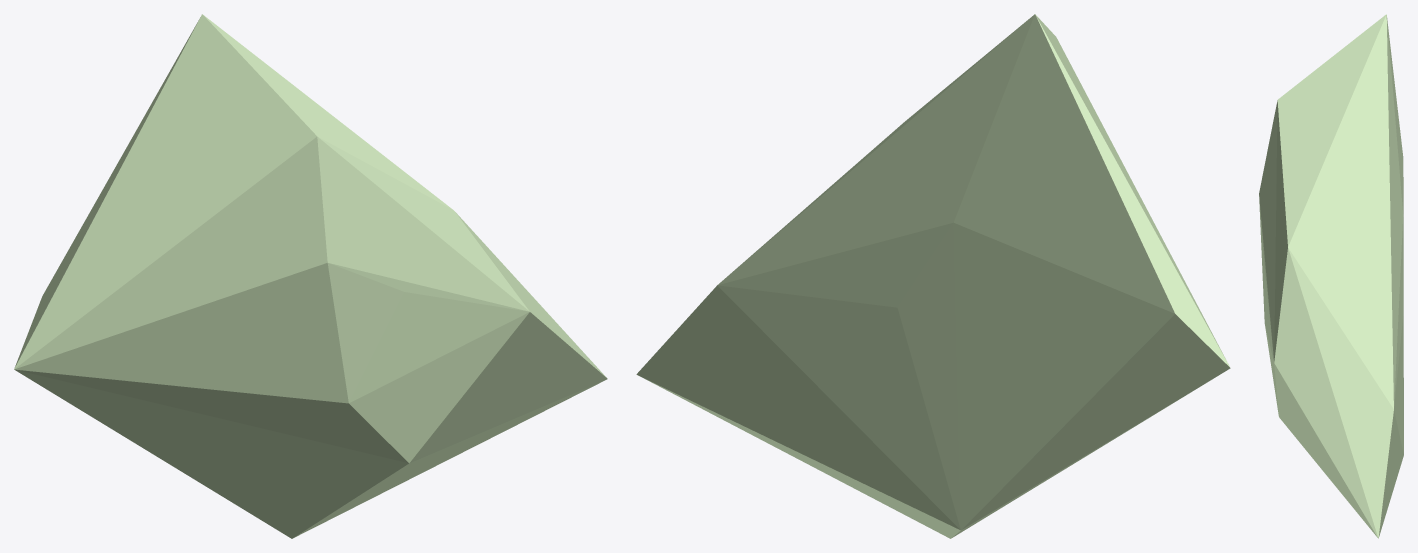
The model's file is kuka_URDF_robot_base_coll_6.dae.
3 renders of one model, left to right at view 1: azimuth 30°, elevation 25°; view 2: azimuth 150°, elevation 25°; view 3: azimuth 270°, elevation 25°, orthographic. The views are drawn at different scales.
Parts seen in each view (by area): view 1: Node_0000020FCC591400; view 2: Node_0000020FCC591400; view 3: Node_0000020FCC591400.
Part boxes in pixels (x1,y1,x2,y2): Node_0000020FCC591400: (14, 14, 607, 538); Node_0000020FCC591400: (636, 14, 1230, 538); Node_0000020FCC591400: (1259, 14, 1403, 538).
Bounding box in the file's own units: 0.0514 × 0.0452 × 0.0136.
